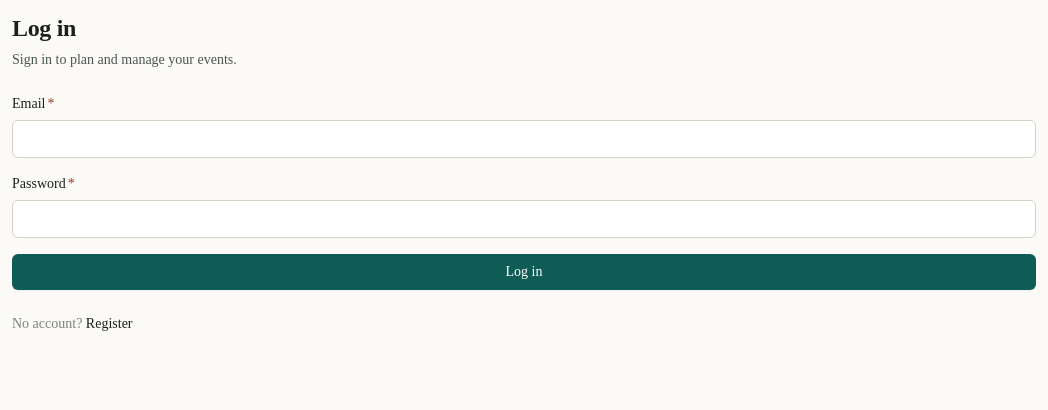
Test: Login page › [SPM-21][AC2] shows wrong credentials as one form error, not against either field
Type "rachel@example.com" into the field labelled "Email*" at [524, 139], box [12,120,1036,158]
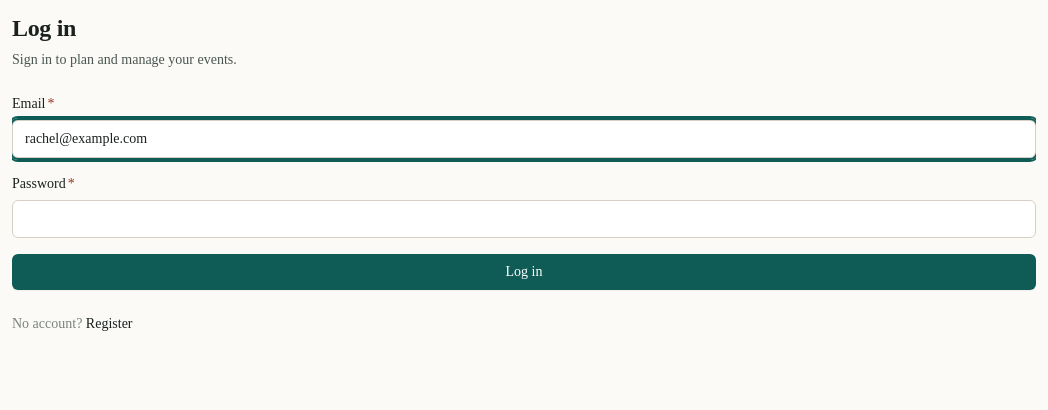
Type "long-enough-pw" into the password field labelled "Password*" at [524, 219], box [12,200,1036,238]
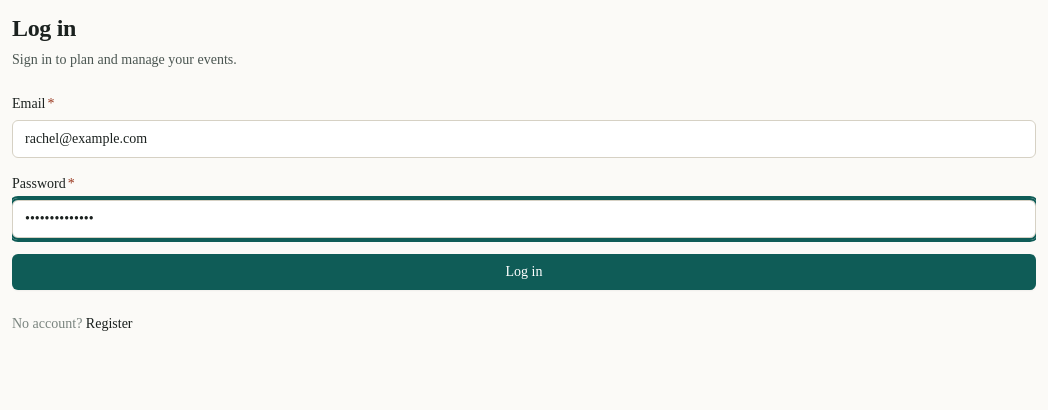
Click the button "Log in" at [524, 272], box [12,254,1036,290]
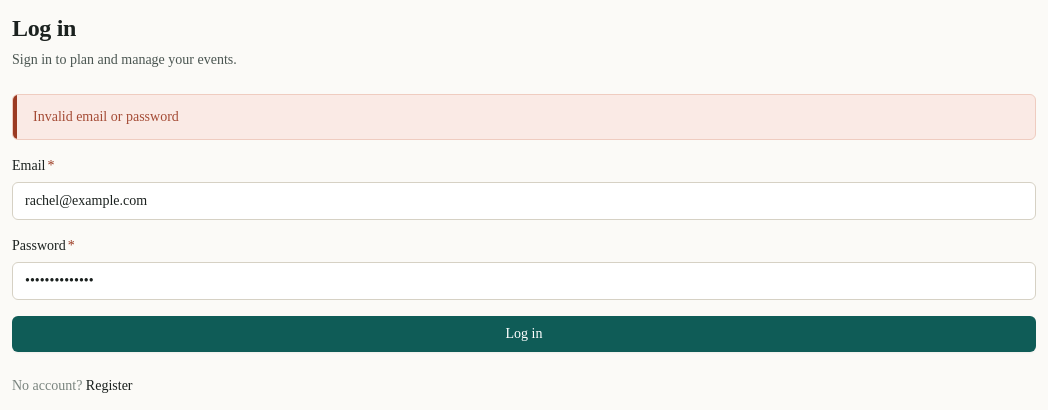
Check: the message reads "Invalid email or password", box [33,109,179,124]
